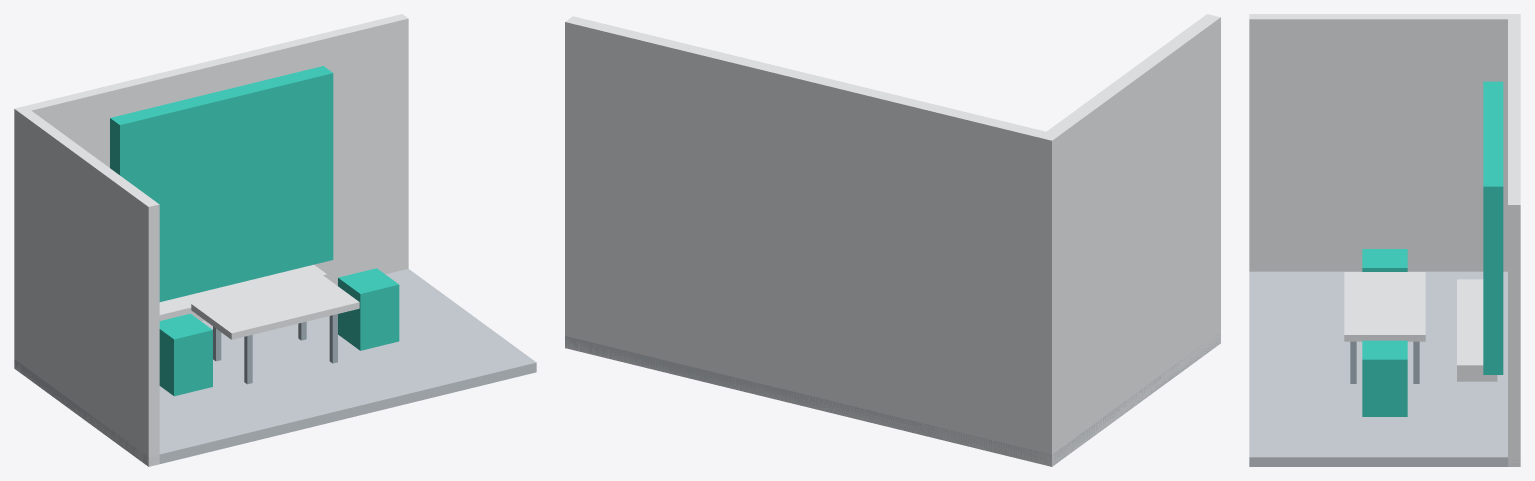
The picture shows the model from 3 angles, left to right: view 1: azimuth 30°, elevation 25°; view 2: azimuth 150°, elevation 25°; view 3: azimuth 270°, elevation 25°; orthographic projection. The views are drawn at different scales.
Parts seen in each view (by area): view 1: Exhibition Booth Concept; view 2: Exhibition Booth Concept; view 3: Exhibition Booth Concept.
Part boxes in pixels (x1,y1,x2,y2): Exhibition Booth Concept: (14, 14, 536, 466); Exhibition Booth Concept: (565, 14, 1220, 466); Exhibition Booth Concept: (1249, 14, 1520, 466).
Bounding box in the file's own units: 5 × 3.2 × 3.
